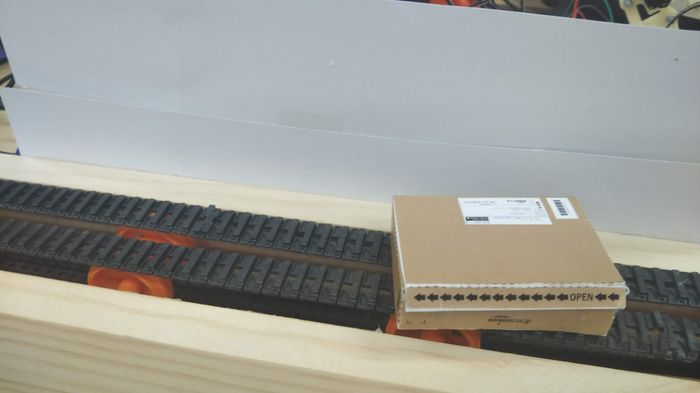box2: (387, 190, 628, 335)
